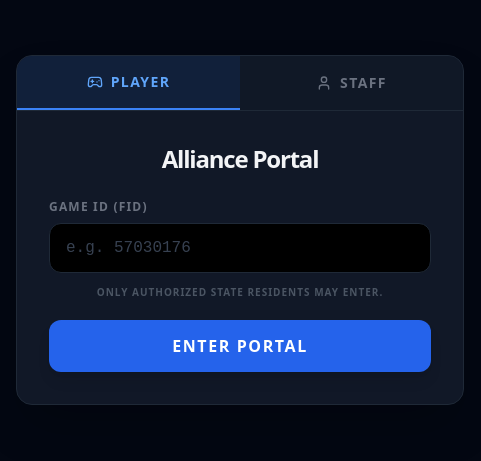
it: Login Component › displays an error if player login fails
Type "000" into the number field labelled "Game ID (FID)".
click(240, 248); type("000")  # box x1=49 y1=223 x2=431 y2=273
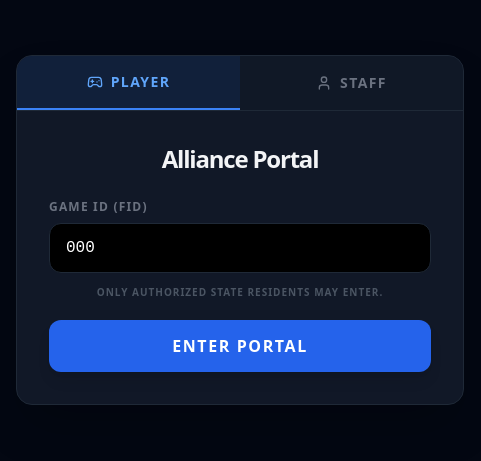
Click the button "Enter Portal".
click(240, 346)  # box x1=49 y1=320 x2=431 y2=372
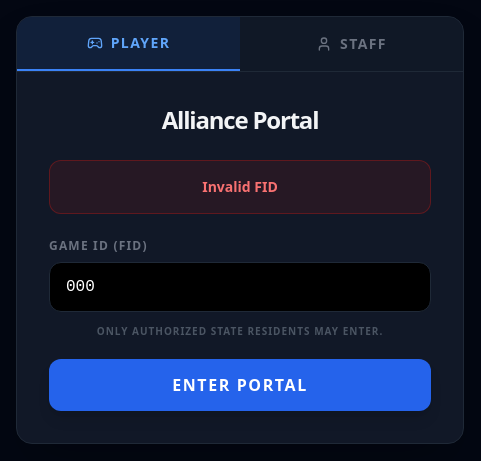
Expected: the text "Invalid FID" is shown, x1=49 y1=160 x2=431 y2=214
